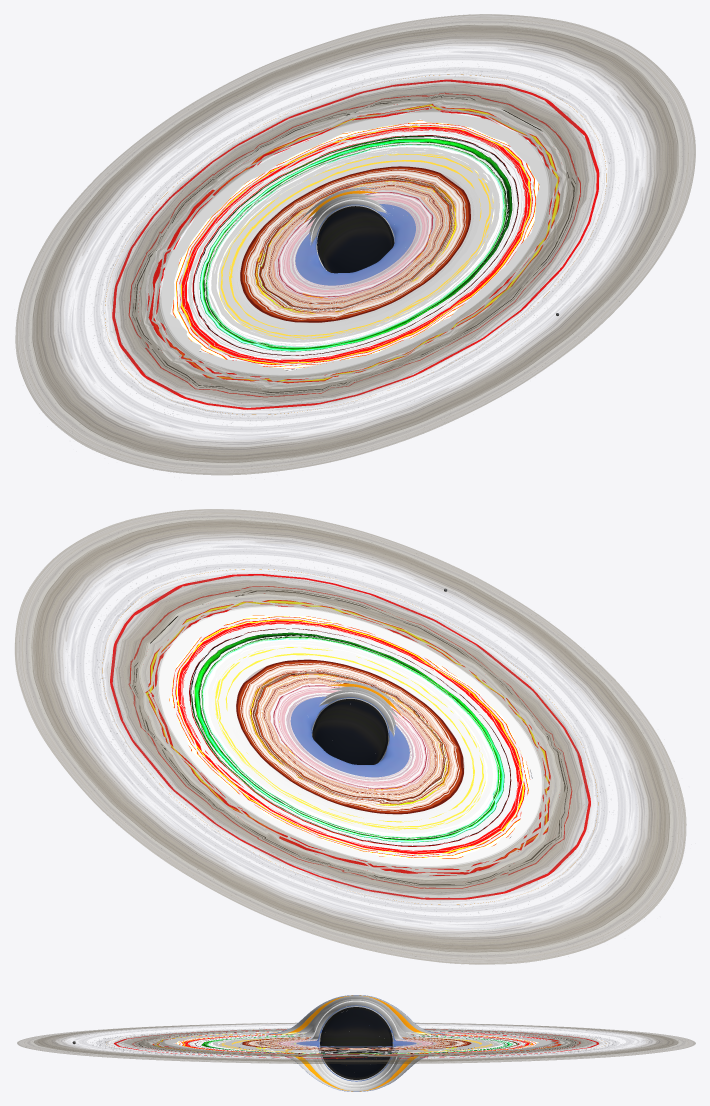
File: black_hole.glb
The picture shows the model from 3 angles, top to bottom: view 1: azimuth 30°, elevation 25°; view 2: azimuth 150°, elevation 25°; view 3: azimuth 270°, elevation 25°; orthographic projection. The views are drawn at different scales.
Parts seen in each view (by area): view 1: black hole_ring_ring_0, black hole_black hole blackoutside_0, black hole_black hole light3_0, black hole_black hole light2_0, black hole_black hole center_0, black hole_black hole light1_0; view 2: black hole_ring_ring_0, black hole_black hole blackoutside_0, black hole_black hole light3_0, black hole_black hole light2_0, black hole_black hole center_0, black hole_black hole light1_0; view 3: black hole_ring_ring_0, black hole_black hole blackoutside_0, black hole_black hole light3_0, black hole_black hole center_0, black hole_black hole light2_0, black hole_black hole light1_0.
Part boxes in pixels (<box>): black hole_ring_ring_0: <box>15,14,695,475</box>; black hole_black hole blackoutside_0: <box>133,94,577,395</box>; black hole_black hole light3_0: <box>104,74,606,414</box>; black hole_black hole light2_0: <box>240,166,471,322</box>; black hole_black hole center_0: <box>317,206,394,273</box>; black hole_black hole light1_0: <box>295,187,415,285</box>; black hole_ring_ring_0: <box>15,509,686,964</box>; black hole_black hole blackoutside_0: <box>131,588,569,885</box>; black hole_black hole light3_0: <box>102,569,598,904</box>; black hole_black hole light2_0: <box>236,659,464,814</box>; black hole_black hole center_0: <box>312,699,388,764</box>; black hole_black hole light1_0: <box>290,680,409,777</box>; black hole_ring_ring_0: <box>17,1023,695,1063</box>; black hole_black hole blackoutside_0: <box>135,995,577,1091</box>; black hole_black hole light3_0: <box>106,995,606,1091</box>; black hole_black hole center_0: <box>320,1007,392,1079</box>; black hole_black hole light2_0: <box>241,1000,471,1086</box>; black hole_black hole light1_0: <box>246,995,475,1091</box>.
Size of what is drawn, in the model's own units: 3097 by 1220 by 3298.
Materials: 8 (7 with a texture image).
